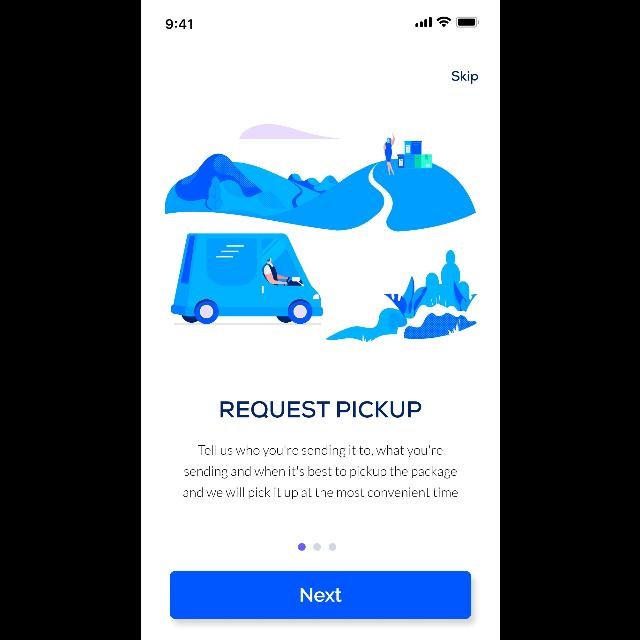image: (165, 124, 478, 342)
pageindicator: (298, 543, 336, 551)
text: (182, 444, 458, 500), (220, 400, 420, 418), (451, 72, 477, 84)
textbutton: (169, 571, 471, 619)
uppertaskbar: (165, 16, 479, 29)
